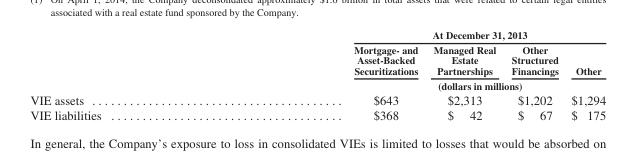table: (29, 28, 605, 121)
table column: (226, 28, 425, 121), (29, 28, 226, 121), (425, 28, 503, 121), (503, 28, 564, 121), (564, 28, 605, 121)
table column header: (29, 28, 605, 91)
table row: (29, 42, 605, 77), (29, 91, 605, 107), (29, 28, 605, 42), (29, 77, 605, 91), (29, 107, 605, 121)
table spanning cell: (226, 28, 605, 42), (226, 77, 605, 91)
